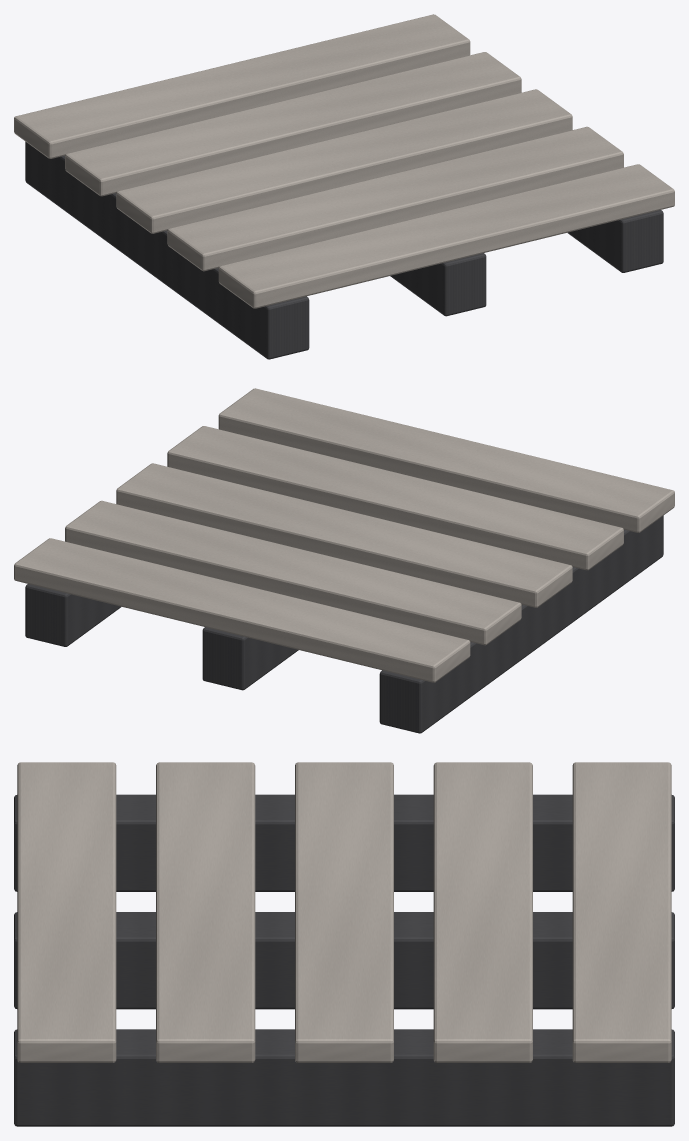
Rendered from storage_pallet.glb.
3 views of the same model, one above another, from view 1: azimuth 30°, elevation 25°; view 2: azimuth 150°, elevation 25°; view 3: azimuth 270°, elevation 25° (orthographic). The views are drawn at different scales.
Parts seen in each view (by area): view 1: MESH_MAT_Painted_Ivory.192, MESH_MAT_Dark_Metal.240; view 2: MESH_MAT_Painted_Ivory.192, MESH_MAT_Dark_Metal.240; view 3: MESH_MAT_Painted_Ivory.192, MESH_MAT_Dark_Metal.240.
Boxes of the visible parts, x1,y1,x2,y2 form: MESH_MAT_Painted_Ivory.192: [14, 14, 674, 308]; MESH_MAT_Dark_Metal.240: [25, 141, 663, 359]; MESH_MAT_Painted_Ivory.192: [14, 388, 674, 682]; MESH_MAT_Dark_Metal.240: [25, 515, 663, 733]; MESH_MAT_Painted_Ivory.192: [17, 762, 671, 1062]; MESH_MAT_Dark_Metal.240: [14, 794, 674, 1126].
Bounding box in the file's own units: 1 × 0.16 × 1.
Materials: 2 (2 with a texture image).
